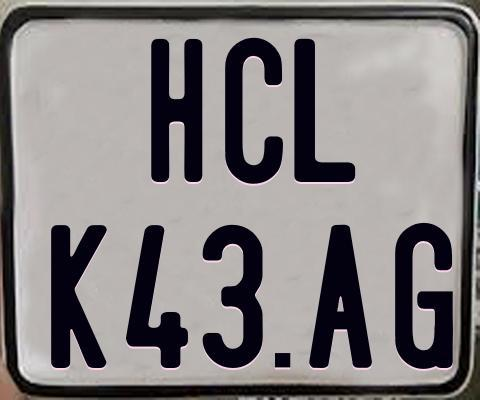3: (203, 224, 265, 370)
4: (124, 222, 191, 368)
A: (309, 224, 376, 373)
C: (223, 37, 282, 188)
G: (395, 223, 453, 375)
H: (151, 36, 204, 184)
K: (51, 222, 110, 370)
L: (291, 39, 353, 187)
